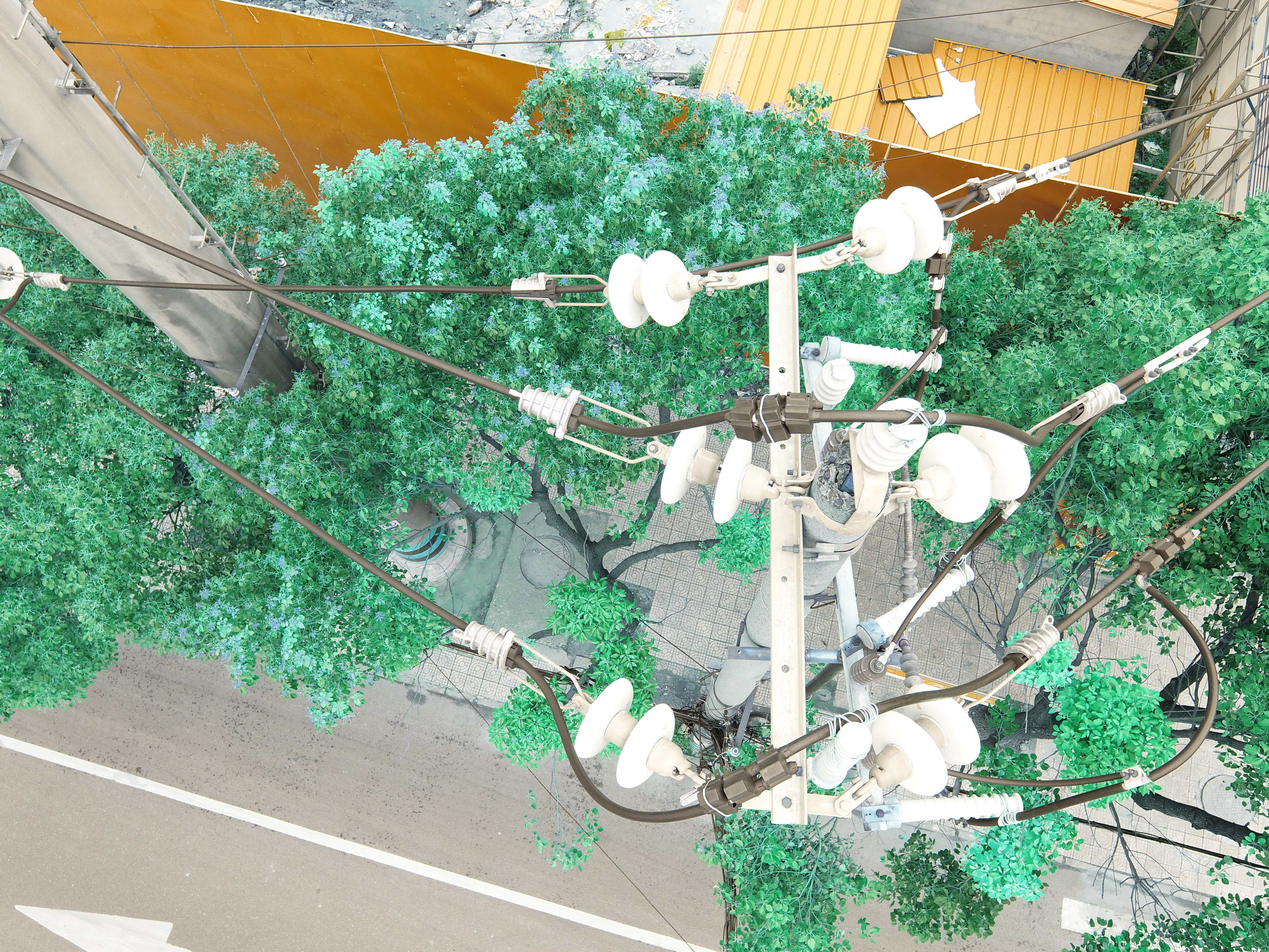severe_soiling_no_discharge_whole: (730, 745, 741, 757)
